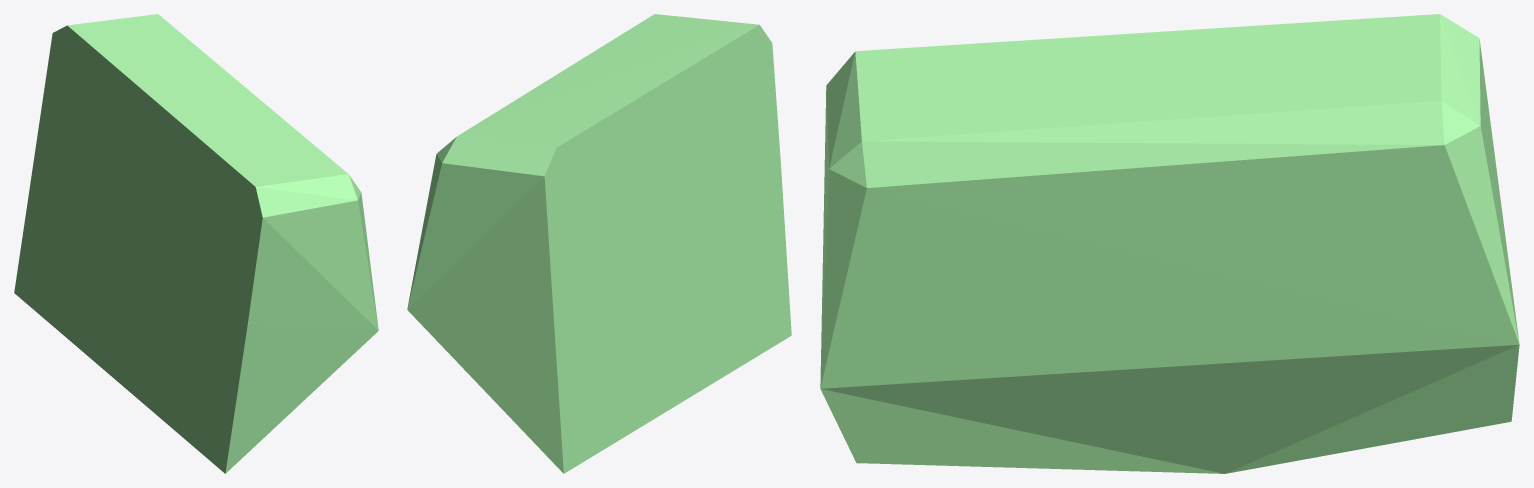
File: UMIRobot_UMIRobot_link_5_convex_coll_9.dae
3 views of the same model, side by side, from view 1: azimuth 30°, elevation 25°; view 2: azimuth 150°, elevation 25°; view 3: azimuth 270°, elevation 25° (orthographic). The views are drawn at different scales.
Visible parts, largest first — view 1: node; view 2: node; view 3: node.
Part boxes in pixels (x1,y1,x2,y2): node: (14,14,378,473); node: (407,14,791,473); node: (820,14,1519,473).
Bounding box in the file's own units: 0.00505 × 0.0103 × 0.0138.
